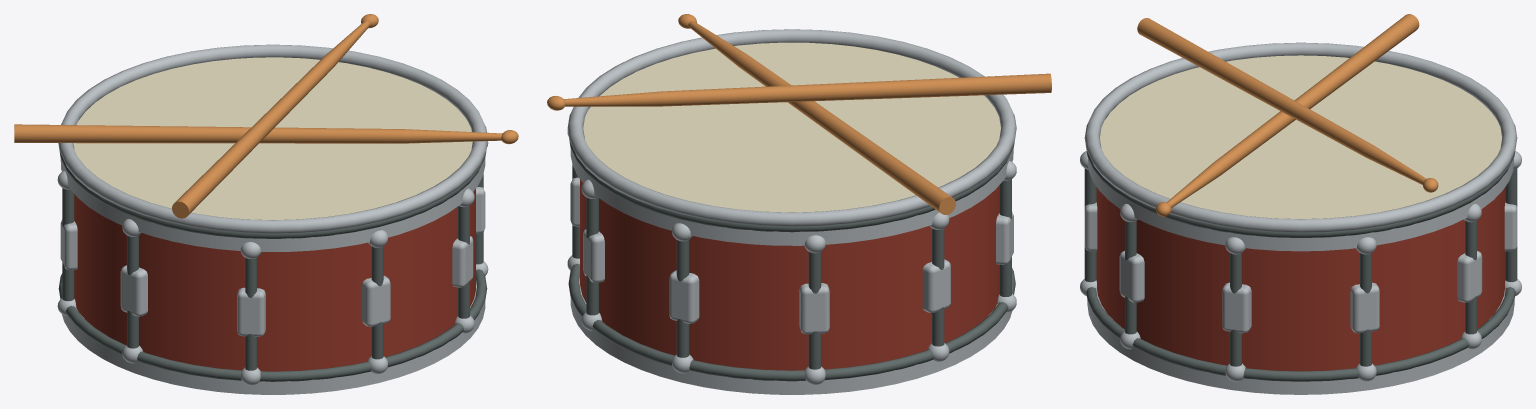
File: snare.glb
3 views of the same model, side by side, from view 1: azimuth 30°, elevation 25°; view 2: azimuth 150°, elevation 25°; view 3: azimuth 270°, elevation 25° (orthographic). The views are drawn at different scales.
Visible parts, largest first — view 1: Snare drum; view 2: Snare drum; view 3: Snare drum.
Part boxes in pixels (x1=…): Snare drum: x1=14, y1=14, x2=518, y2=394; Snare drum: x1=547, y1=14, x2=1051, y2=394; Snare drum: x1=1080, y1=14, x2=1521, y2=394.
Bounding box in the file's own units: 1.99 × 0.9846 × 1.92.
